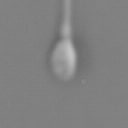abnormal: (49, 1, 86, 37)
